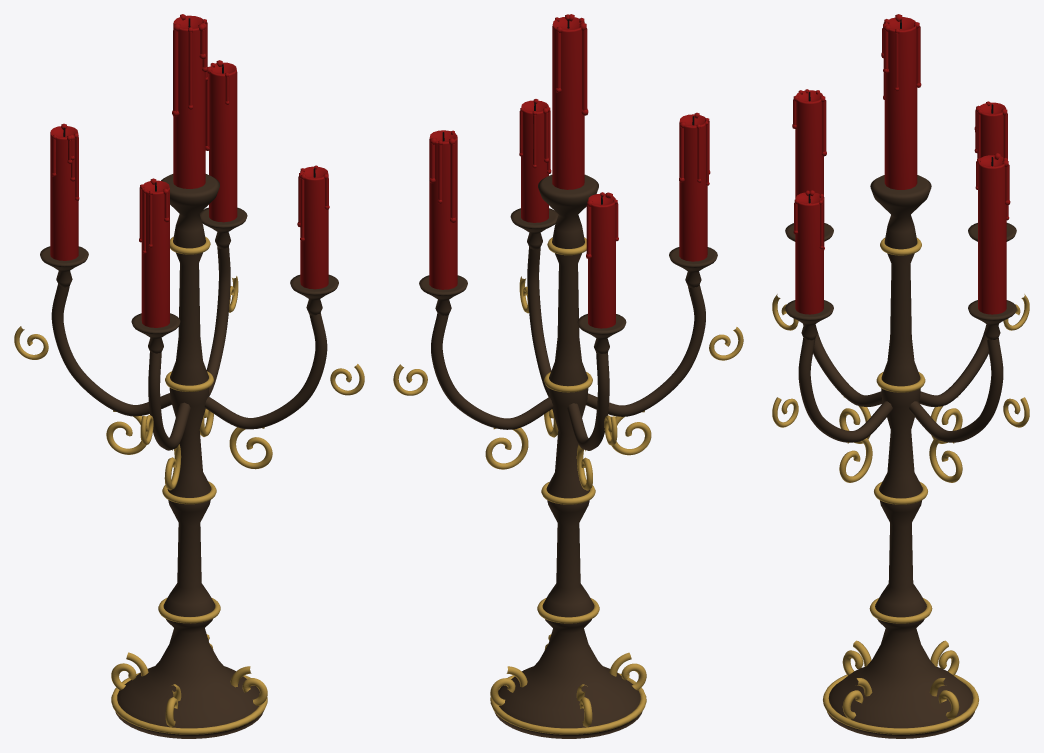
File: redroom-candelabra.glb
3 renders of one model, left to right at view 1: azimuth 30°, elevation 25°; view 2: azimuth 150°, elevation 25°; view 3: azimuth 270°, elevation 25°, orthographic.
Visible parts, largest first — view 1: Candelabra_Bronze, Candelabra_Gilt, Candle_1_Wax, Candle_5_Wax, Candle_3_Wax, Candle_4_Wax, Candle_2_Wax; view 2: Candelabra_Bronze, Candelabra_Gilt, Candle_1_Wax, Candle_5_Wax, Candle_3_Wax, Candle_4_Wax, Candle_2_Wax; view 3: Candelabra_Bronze, Candelabra_Gilt, Candle_1_Wax, Candle_5_Wax, Candle_2_Wax, Candle_3_Wax, Candle_4_Wax.
Boxes of the visible parts, bbox=[...] form: Candelabra_Bronze: bbox=[40, 174, 338, 738]; Candelabra_Gilt: bbox=[14, 237, 364, 734]; Candle_1_Wax: bbox=[172, 14, 208, 188]; Candle_5_Wax: bbox=[205, 60, 237, 222]; Candle_3_Wax: bbox=[139, 178, 169, 327]; Candle_4_Wax: bbox=[50, 123, 79, 260]; Candle_2_Wax: bbox=[297, 165, 329, 289]; Candelabra_Bronze: bbox=[419, 174, 717, 738]; Candelabra_Gilt: bbox=[393, 237, 743, 734]; Candle_1_Wax: bbox=[552, 14, 588, 189]; Candle_5_Wax: bbox=[429, 130, 457, 289]; Candle_3_Wax: bbox=[679, 112, 710, 261]; Candle_4_Wax: bbox=[586, 192, 618, 328]; Candle_2_Wax: bbox=[519, 99, 551, 222]; Candelabra_Bronze: bbox=[785, 175, 1016, 738]; Candelabra_Gilt: bbox=[772, 238, 1029, 734]; Candle_1_Wax: bbox=[881, 14, 921, 189]; Candle_5_Wax: bbox=[975, 153, 1010, 314]; Candle_2_Wax: bbox=[793, 190, 824, 314]; Candle_3_Wax: bbox=[792, 89, 826, 198]; Candle_4_Wax: bbox=[974, 101, 1007, 158].
Bounding box in the file's own units: 0.3782 × 1.12 × 0.3787.
